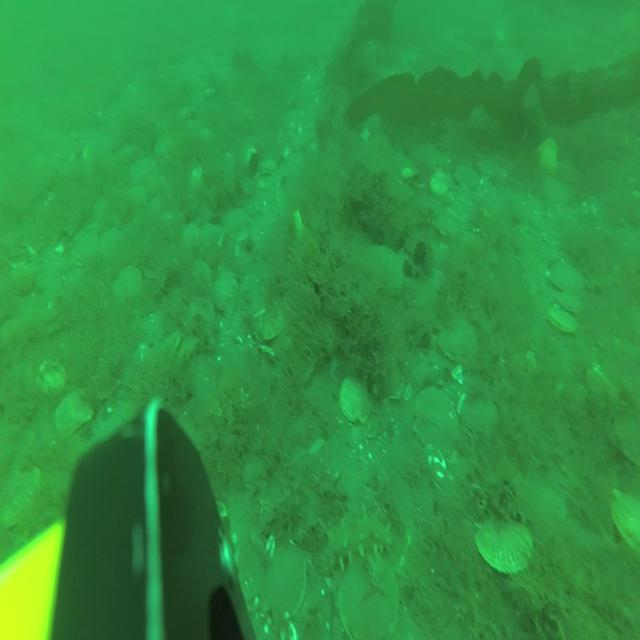holothurian: (321, 507, 394, 570)
scallop: (343, 554, 399, 640), (261, 536, 307, 620), (478, 517, 530, 580), (416, 389, 460, 457), (517, 478, 564, 538), (611, 481, 640, 563), (360, 240, 402, 296), (438, 311, 479, 366), (3, 470, 42, 524), (340, 372, 372, 427), (58, 387, 92, 438), (462, 393, 500, 436), (367, 349, 398, 401), (544, 253, 580, 293), (113, 264, 145, 308), (72, 225, 99, 272), (187, 298, 214, 342), (38, 359, 66, 398), (213, 268, 238, 308), (549, 304, 578, 338), (552, 286, 582, 318), (538, 134, 560, 172), (453, 158, 477, 191), (432, 168, 454, 198)
